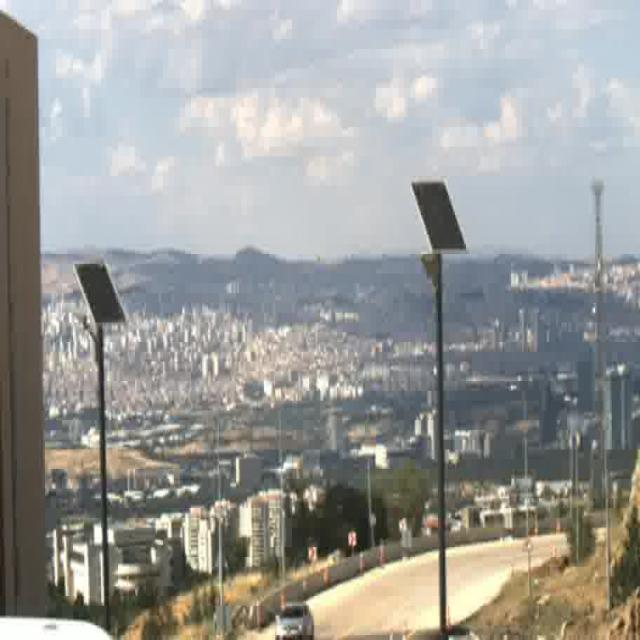Bus: (0, 614, 114, 639)
Car: (275, 603, 314, 640)
